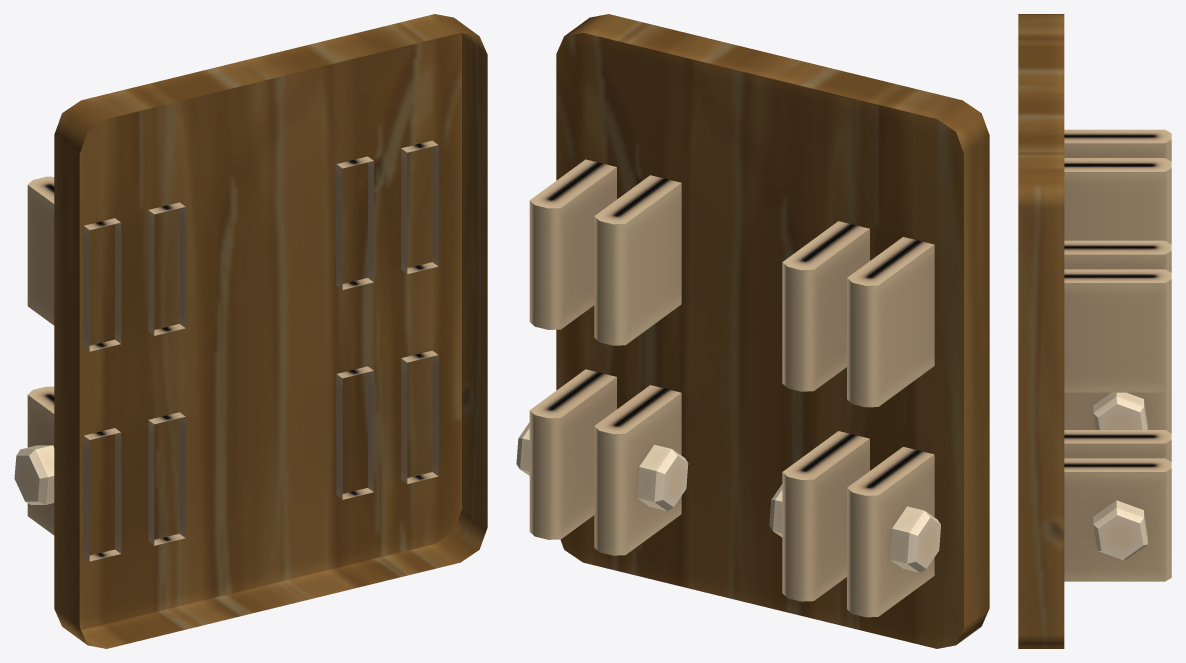
Rendered from SM_Switch_1_Base.fbx.
3 renders of one model, left to right at view 1: azimuth 30°, elevation 25°; view 2: azimuth 150°, elevation 25°; view 3: azimuth 270°, elevation 25°, orthographic. The views are drawn at different scales.
Visible parts, largest first — view 1: Switcher; view 2: Switcher; view 3: Switcher.
Boxes of the visible parts, left/top/right/bottom form: Switcher: left=14, top=14, right=487, bottom=648; Switcher: left=516, top=14, right=989, bottom=648; Switcher: left=1018, top=14, right=1171, bottom=648.
Size of the model in its own units: 0.5476 by 0.68 by 0.1982.
Materials: 1 (1 with a texture image).
